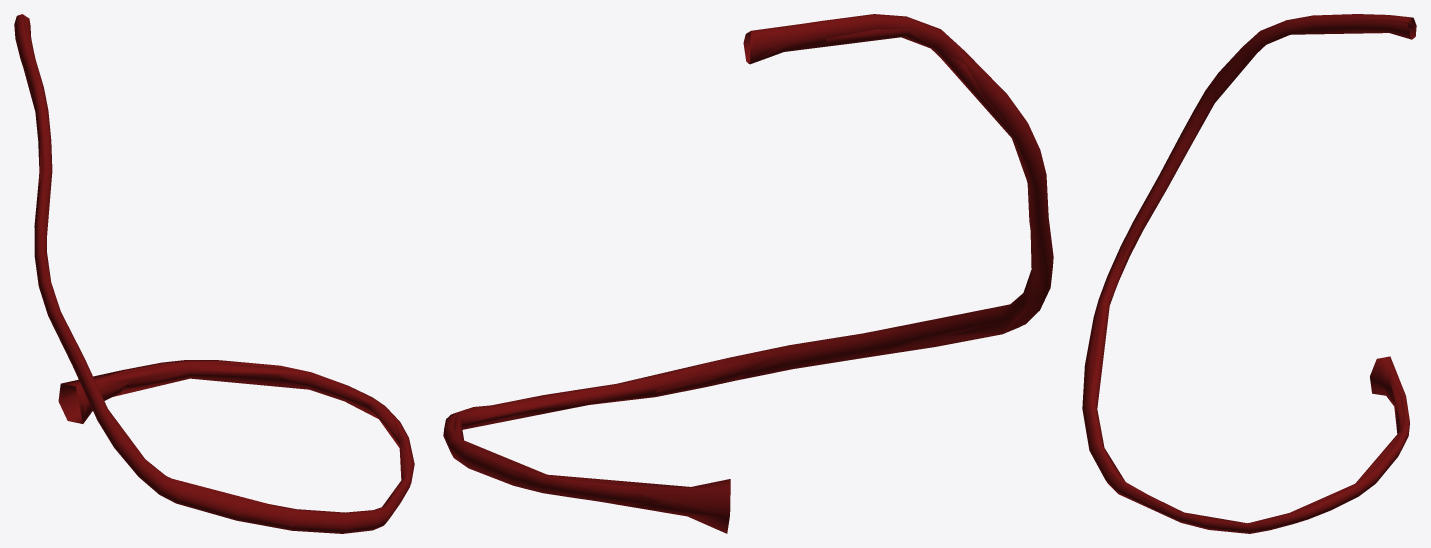
File: L arteria circumflexa humeri.fbx
3 renders of one model, left to right at view 1: azimuth 30°, elevation 25°; view 2: azimuth 150°, elevation 25°; view 3: azimuth 270°, elevation 25°, orthographic. The views are drawn at different scales.
Visible parts, largest first — view 1: L arteria circumflexa humeri, L arteria circumflexa humeri low; view 2: L arteria circumflexa humeri, L arteria circumflexa humeri low; view 3: L arteria circumflexa humeri, L arteria circumflexa humeri low.
Boxes of the visible parts, x1=… form: L arteria circumflexa humeri: x1=14, y1=14, x2=414, y2=533; L arteria circumflexa humeri low: x1=22, y1=14, x2=410, y2=532; L arteria circumflexa humeri: x1=443, y1=14, x2=1053, y2=505; L arteria circumflexa humeri low: x1=453, y1=20, x2=1048, y2=533; L arteria circumflexa humeri: x1=1082, y1=14, x2=1416, y2=533; L arteria circumflexa humeri low: x1=1088, y1=15, x2=1415, y2=522.
Bounding box in the file's own units: 9.78 × 10.36 × 7.94.
